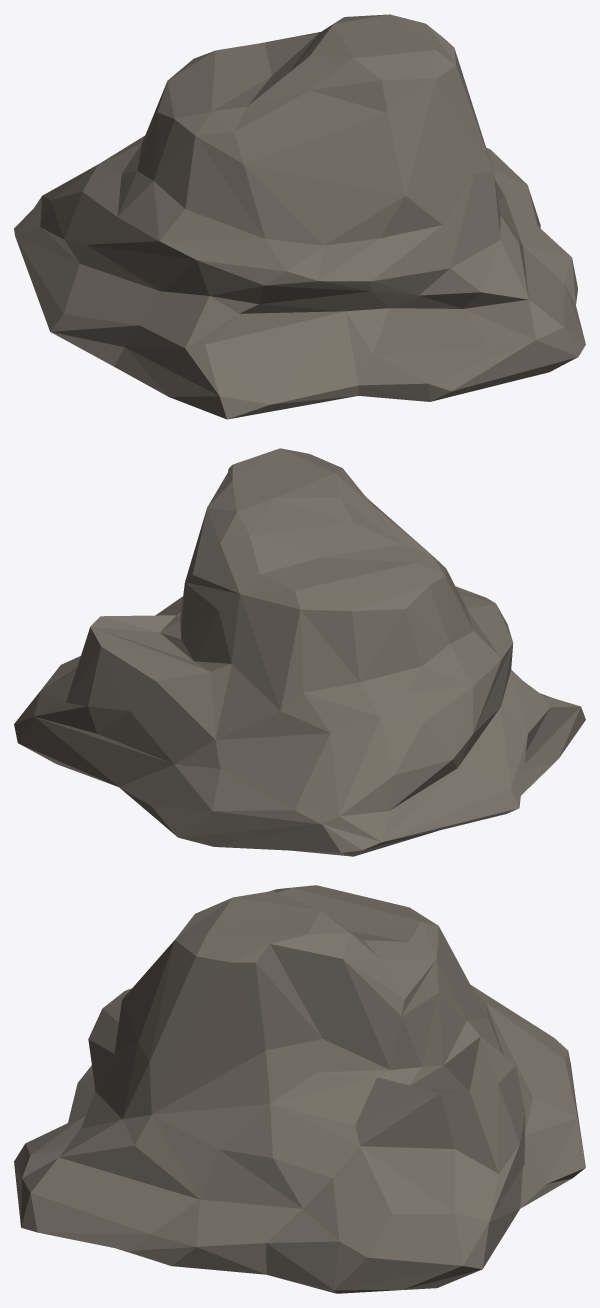
The model's file is SM_Env_Rock_Large_01.glb.
3 renders of one model, top to bottom at view 1: azimuth 30°, elevation 25°; view 2: azimuth 150°, elevation 25°; view 3: azimuth 270°, elevation 25°, orthographic. The views are drawn at different scales.
Parts seen in each view (by area): view 1: SM_Env_Rock_Large_01_part00; view 2: SM_Env_Rock_Large_01_part00; view 3: SM_Env_Rock_Large_01_part00.
Part boxes in pixels (box(x1,y1,x2,y2)): SM_Env_Rock_Large_01_part00: box(14, 14, 585, 419); SM_Env_Rock_Large_01_part00: box(14, 448, 585, 856); SM_Env_Rock_Large_01_part00: box(14, 885, 585, 1293).
Bounding box in the file's own units: 6.3 × 3.48 × 6.15.
1 material, 1 textured.
